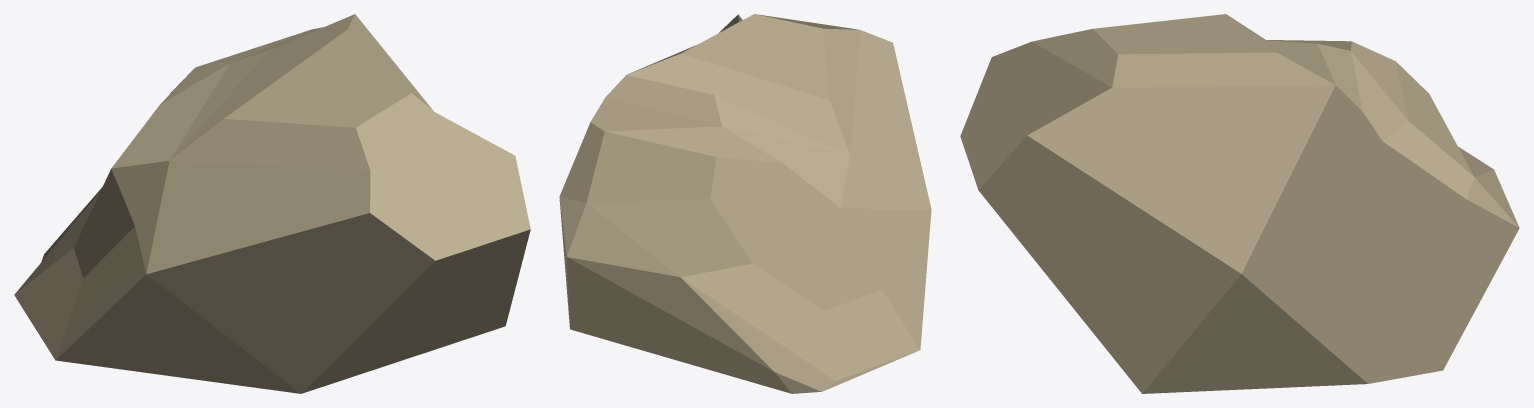
File: LimestoneSmall.fbx
3 renders of one model, left to right at view 1: azimuth 30°, elevation 25°; view 2: azimuth 150°, elevation 25°; view 3: azimuth 270°, elevation 25°, orthographic. The views are drawn at different scales.
Parts seen in each view (by area): view 1: Cube_cell.042; view 2: Cube_cell.042; view 3: Cube_cell.042.
Boxes of the visible parts, bbox=[...] form: Cube_cell.042: bbox=[14, 14, 530, 393]; Cube_cell.042: bbox=[559, 14, 931, 393]; Cube_cell.042: bbox=[960, 14, 1519, 393].
Size of the model in its own units: 189 by 124 by 216.
